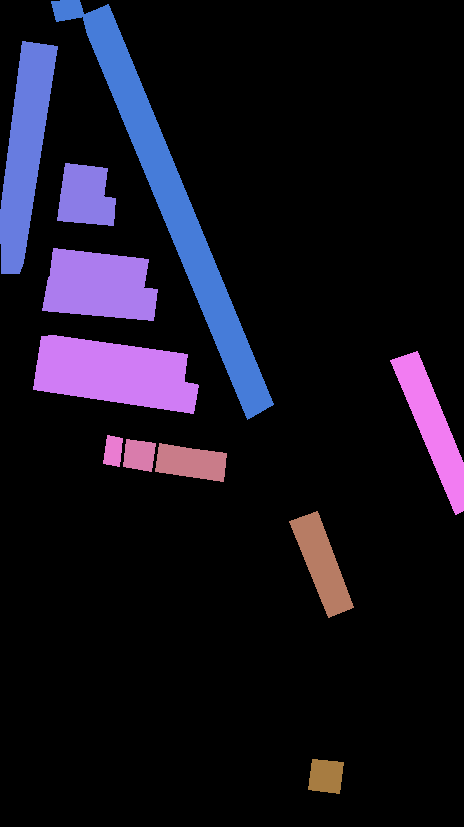parkingspot: (82, 4, 273, 419), (0, 41, 57, 273), (390, 351, 464, 514), (33, 361, 198, 413), (37, 335, 187, 385), (289, 511, 353, 617), (42, 277, 157, 320), (49, 248, 148, 289), (155, 443, 226, 481), (57, 190, 115, 225), (61, 163, 107, 198), (308, 759, 343, 793), (123, 439, 155, 471), (51, 0, 84, 21), (103, 435, 122, 466)
